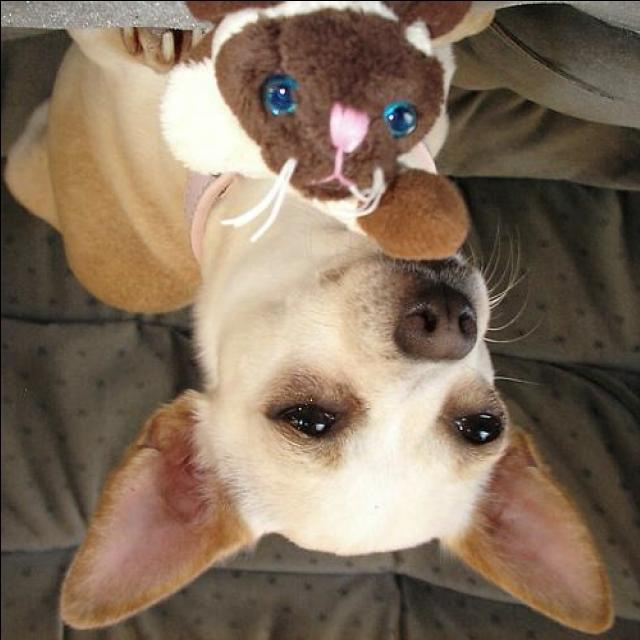chihuahua: (8, 14, 618, 636)
